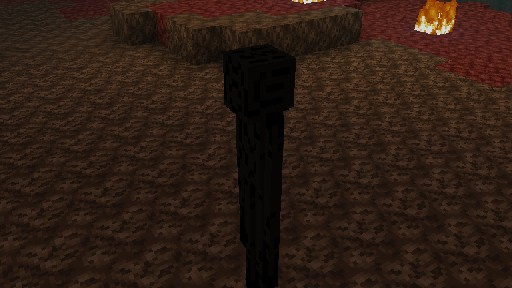enderman: (221, 43, 295, 288)
